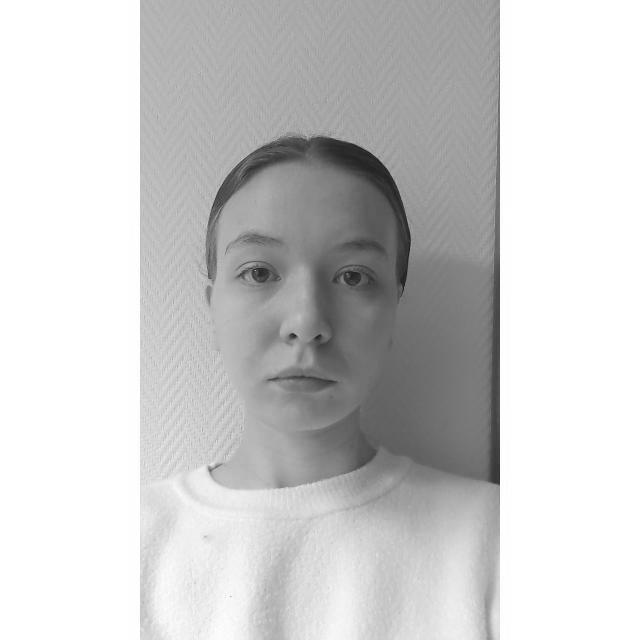real: (208, 178, 398, 425)
